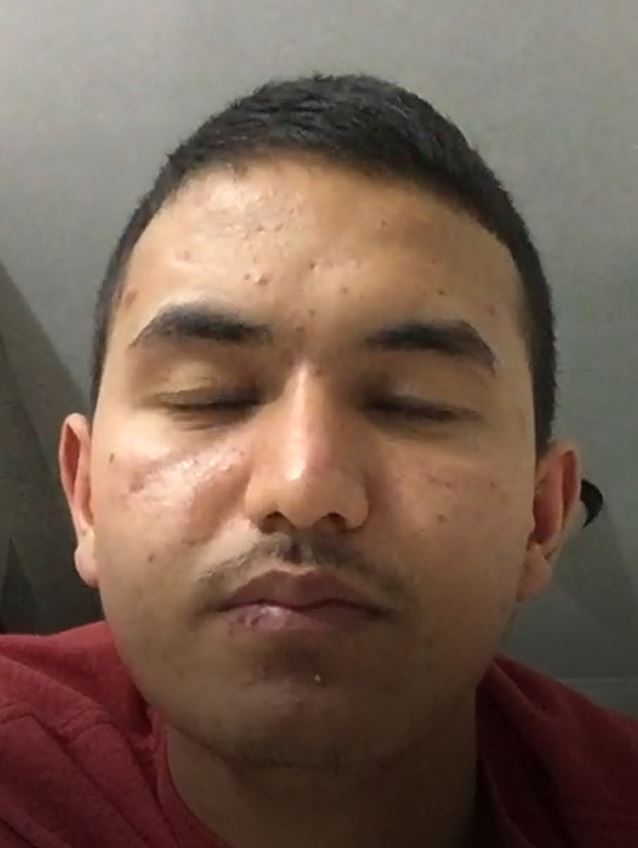Sleeping: (124, 327, 504, 451)
